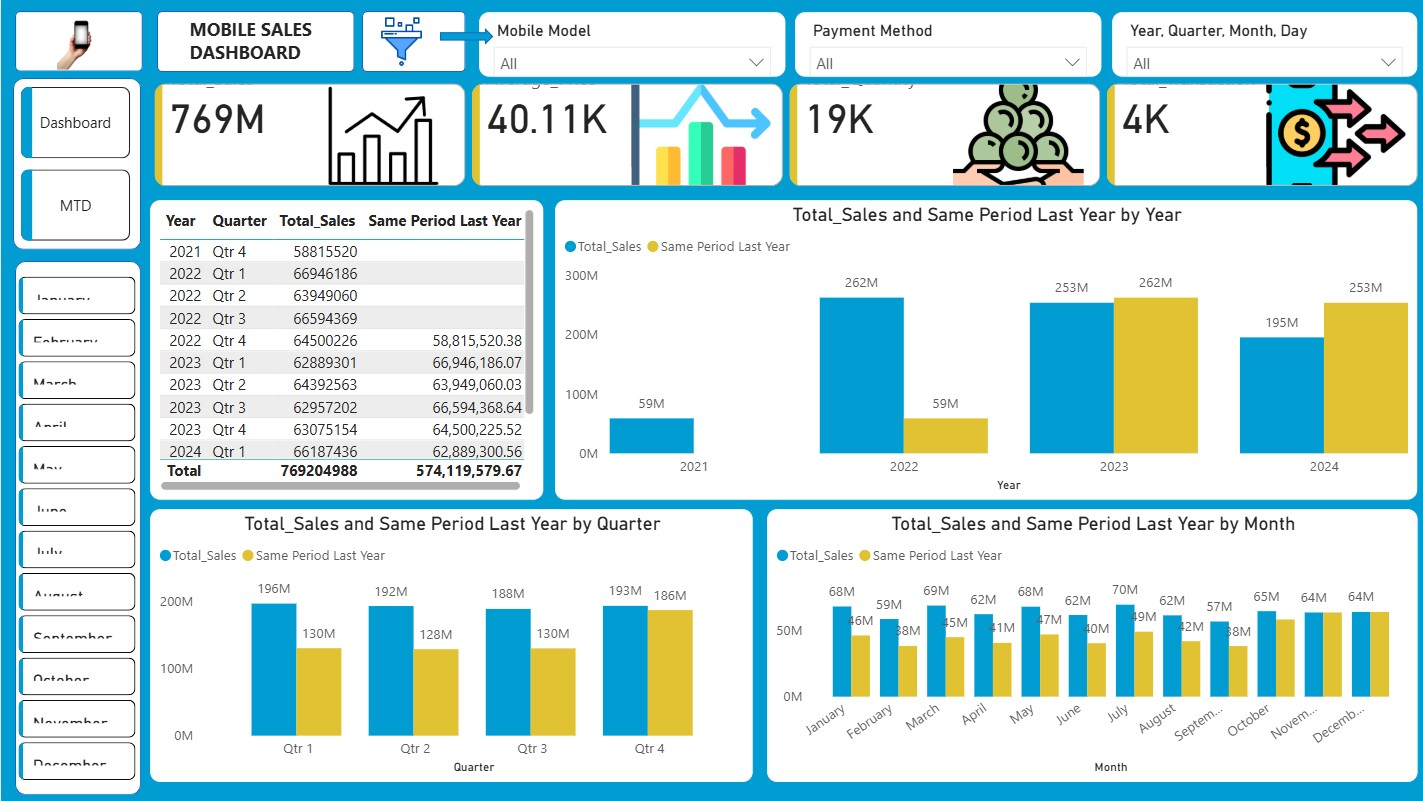

This screenshot's page, from the dashboard's own definition file:
{"tool":"powerbi","page":{"name":"Same Period Last Year","canvas":[1280,720],"ordinal":2},"visuals":[{"type":"shape","box":[12.6,9.7,114.8,54.5],"z":0},{"type":"shape","box":[10.6,70,115.1,154.4],"z":1000},{"type":"shape","box":[12.5,233.9,113.1,479.4],"z":2000},{"type":"cardVisual","fields":{"Data":["Sales_Data.Total_Sales","Sales_Data.Average_Price","Sales_Data.Total_Quantity","Sales_Data.Total_Transaction"]},"box":[133.3,70,1146.7,102.6],"z":3000},{"type":"slicer","fields":{"Values":["Sales_Data.Mobile Model"]},"box":[428.3,9.8,276.6,60.3],"z":4000},{"type":"slicer","fields":{"Values":["Sales_Data.Payment Method"]},"box":[712,9.8,276.6,60.3],"z":5000},{"type":"slicer","fields":{"Values":["Custom_Calender.Date.Variation.Date Hierarchy.Year","Custom_Calender.Date.Variation.Date Hierarchy.Quarter","Custom_Calender.Date.Variation.Date Hierarchy.Month","Custom_Calender.Date.Variation.Date Hierarchy.Day"]},"box":[996.6,9.8,275.8,60.3],"z":6000},{"type":"shape","box":[324.5,9.8,93.1,55],"z":7000},{"type":"image","box":[324.5,9.8,70,55],"z":8000},{"type":"shape","box":[393.7,24.8,47.9,15.1],"z":9000},{"type":"shape","box":[140.1,9.8,177.3,55],"z":10000},{"type":"textbox","box":[164,9.8,170.2,60.3],"z":11000},{"type":"tableEx","fields":{"Values":["Custom_Calender.Date.Variation.Date Hierarchy.Year","Custom_Calender.Date.Variation.Date Hierarchy.Quarter","Sales_Data.Total_Sales","Sales_Data.Total Sales Last Year"]},"box":[133.3,178.3,354.8,271.3],"z":12000},{"type":"advancedSlicerVisual","fields":{"Values":["Custom_Calender.Date.Variation.Date Hierarchy.Month"]},"box":[10.6,243.5,115.1,466],"z":13000},{"type":"clusteredColumnChart","fields":{"Category":["Custom_Calender.Date.Variation.Date Hierarchy.Year","Custom_Calender.Date.Variation.Date Hierarchy.Quarter"],"Y":["Sales_Data.Total_Sales","Sales_Data.Same Period Last Year"]},"box":[496.7,178.3,775.7,271.3],"z":14000},{"type":"clusteredColumnChart","fields":{"Category":["Custom_Calender.Date.Variation.Date Hierarchy.Year","Custom_Calender.Date.Variation.Date Hierarchy.Quarter"],"Y":["Sales_Data.Total_Sales","Sales_Data.Same Period Last Year"]},"box":[133.3,456.4,542.7,247.4],"z":15000},{"type":"clusteredColumnChart","fields":{"Y":["Sales_Data.Total_Sales","Sales_Data.Same Period Last Year"],"Category":["Custom_Calender.Date.Variation.Date Hierarchy.Year","Custom_Calender.Date.Variation.Date Hierarchy.Quarter","Custom_Calender.Date.Variation.Date Hierarchy.Month","Custom_Calender.Date.Variation.Date Hierarchy.Day"]},"box":[686.5,456.4,585.8,247.4],"z":16000},{"type":"pageNavigator","box":[18.2,77.7,98.8,140],"z":16001},{"type":"image","box":[41.2,13.4,53.7,53.7],"z":16002}]}

Visuals, with their boxes in screenshot pixels (x1, y1, x2, y2), scaled from the page's 1280x720 canvas onto the 1423x801 screenshot:
shape: [left=14, top=11, right=142, bottom=71]
shape: [left=12, top=78, right=140, bottom=250]
shape: [left=14, top=260, right=140, bottom=794]
cardVisual - Sales_Data.Total_Sales x Sales_Data.Average_Price: [left=148, top=78, right=1422, bottom=192]
slicer - Sales_Data.Mobile Model: [left=476, top=11, right=784, bottom=78]
slicer - Sales_Data.Payment Method: [left=792, top=11, right=1099, bottom=78]
slicer - Custom_Calender.Date.Variation.Date Hierarchy.Year x Custom_Calender.Date.Variation.Date Hierarchy.Quarter: [left=1108, top=11, right=1415, bottom=78]
shape: [left=361, top=11, right=464, bottom=72]
image: [left=361, top=11, right=439, bottom=72]
shape: [left=438, top=28, right=491, bottom=44]
shape: [left=156, top=11, right=353, bottom=72]
textbox: [left=182, top=11, right=372, bottom=78]
tableEx - Custom_Calender.Date.Variation.Date Hierarchy.Year x Custom_Calender.Date.Variation.Date Hierarchy.Quarter: [left=148, top=198, right=543, bottom=500]
advancedSlicerVisual - Custom_Calender.Date.Variation.Date Hierarchy.Month: [left=12, top=271, right=140, bottom=789]
clusteredColumnChart - Custom_Calender.Date.Variation.Date Hierarchy.Year x Custom_Calender.Date.Variation.Date Hierarchy.Quarter: [left=552, top=198, right=1415, bottom=500]
clusteredColumnChart - Custom_Calender.Date.Variation.Date Hierarchy.Year x Custom_Calender.Date.Variation.Date Hierarchy.Quarter: [left=148, top=508, right=752, bottom=783]
clusteredColumnChart - Sales_Data.Total_Sales x Sales_Data.Same Period Last Year: [left=763, top=508, right=1414, bottom=783]
pageNavigator: [left=20, top=86, right=130, bottom=242]
image: [left=46, top=15, right=106, bottom=75]
